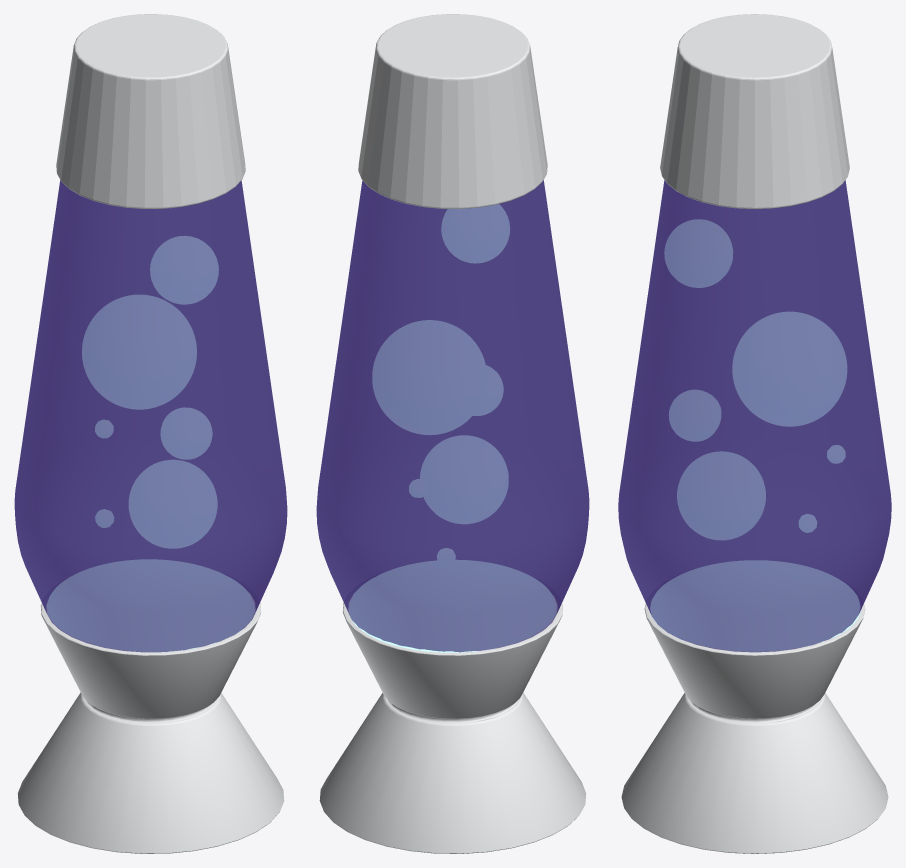
The model's file is lampada.fbx.
The picture shows the model from 3 angles, left to right: view 1: azimuth 30°, elevation 25°; view 2: azimuth 150°, elevation 25°; view 3: azimuth 270°, elevation 25°; orthographic projection.
Parts seen in each view (by area): view 1: polySurface69; view 2: polySurface69; view 3: polySurface69.
Boxes of the visible parts, bbox=[...] form: polySurface69: bbox=[14, 14, 287, 853]; polySurface69: bbox=[316, 14, 589, 853]; polySurface69: bbox=[618, 14, 891, 853].
Size of the model in its own units: 0.1189 by 0.3606 by 0.1189.
